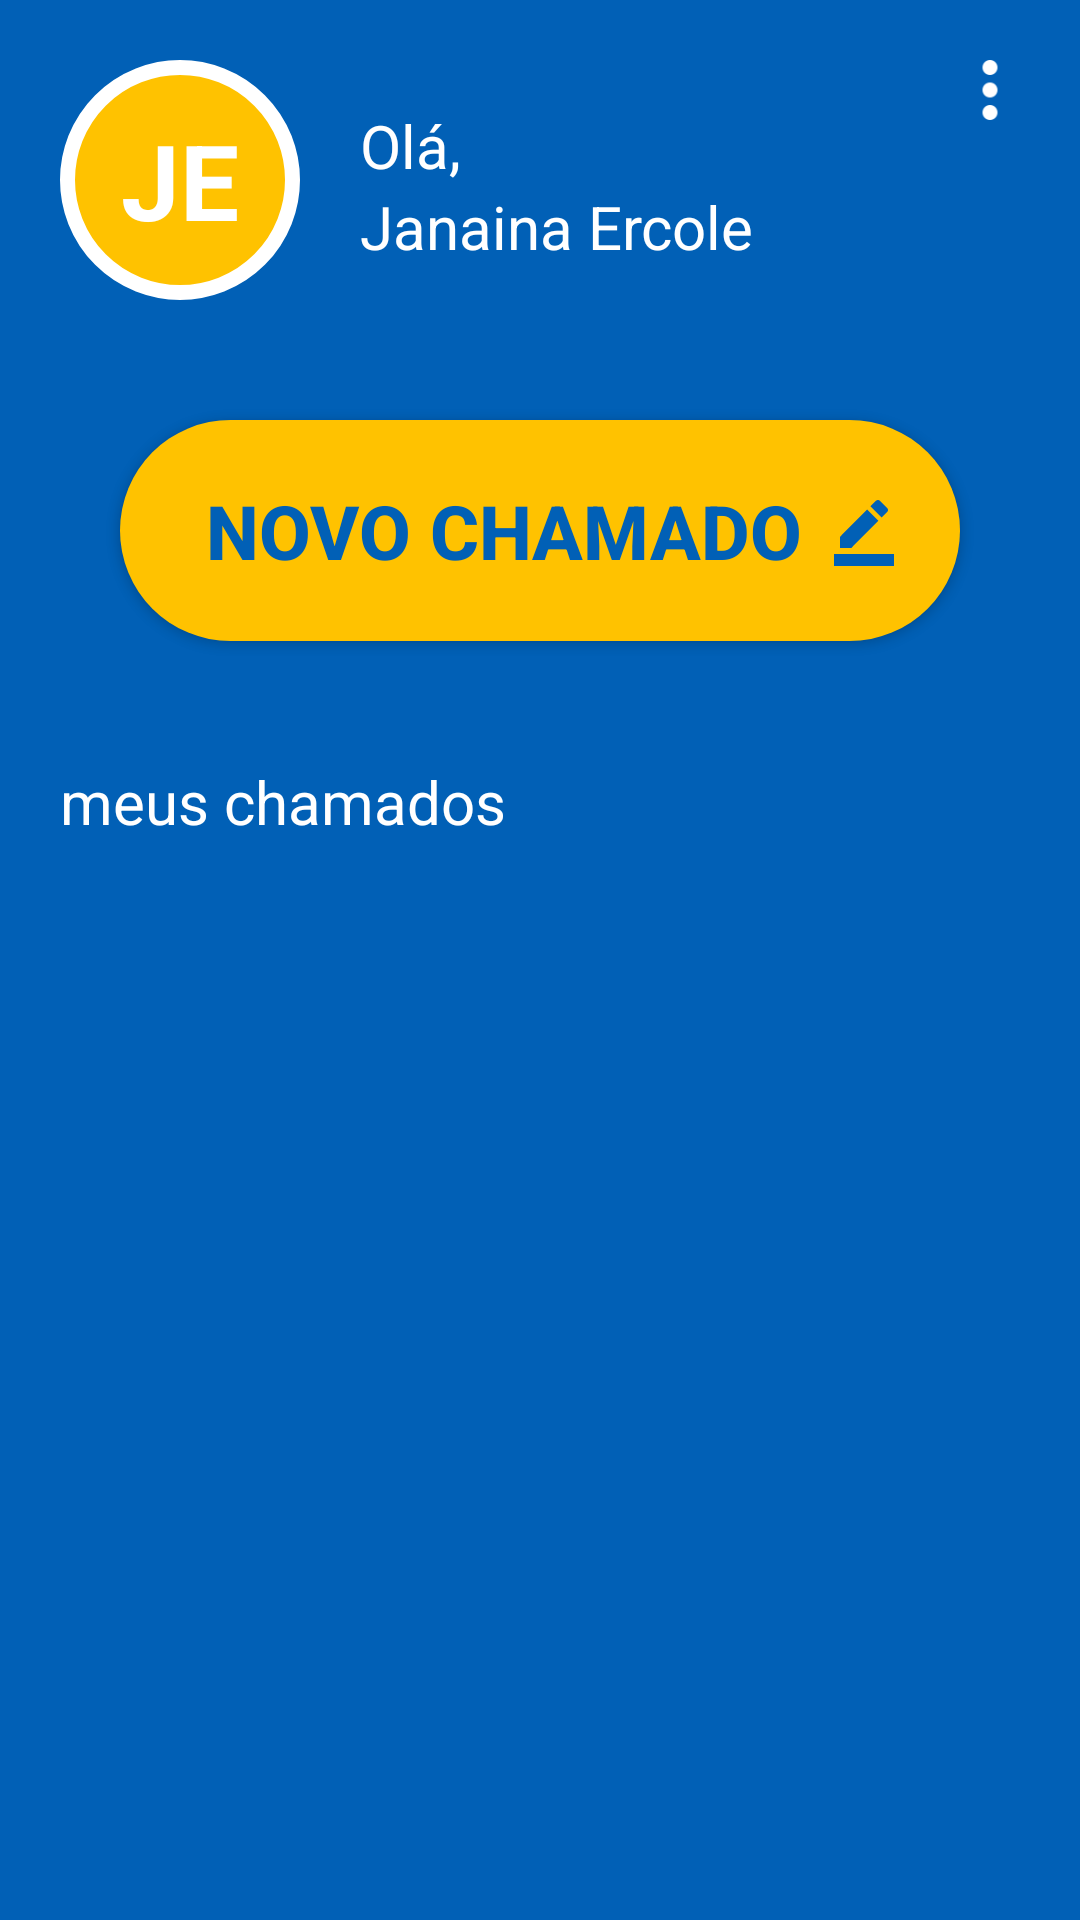

Screen size 1080 x 1920. Icon name, then its center in pixels as (x,y):
container user: (180,180)
menuopcoesbranco: (990,90)
